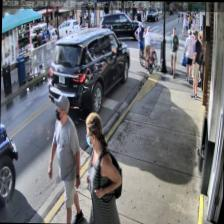person: (46, 93, 85, 223), (83, 110, 122, 224)
